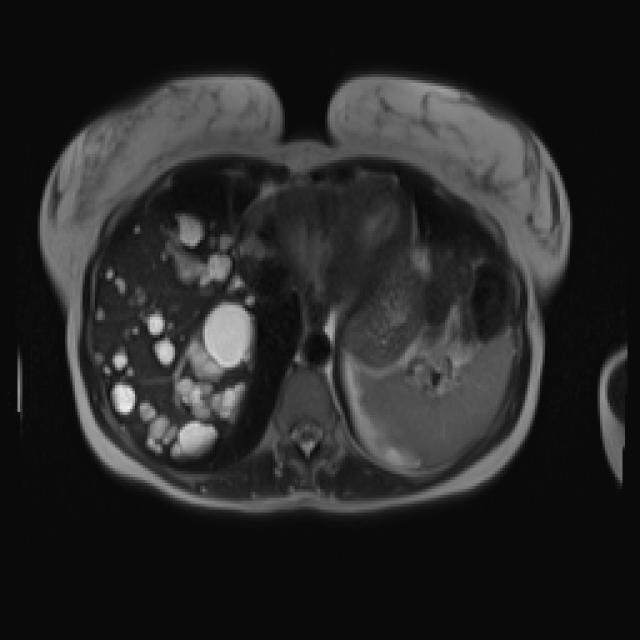sol: (360, 411, 418, 467)
